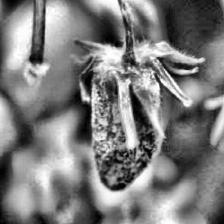Gray Mold: (68, 19, 204, 191)
